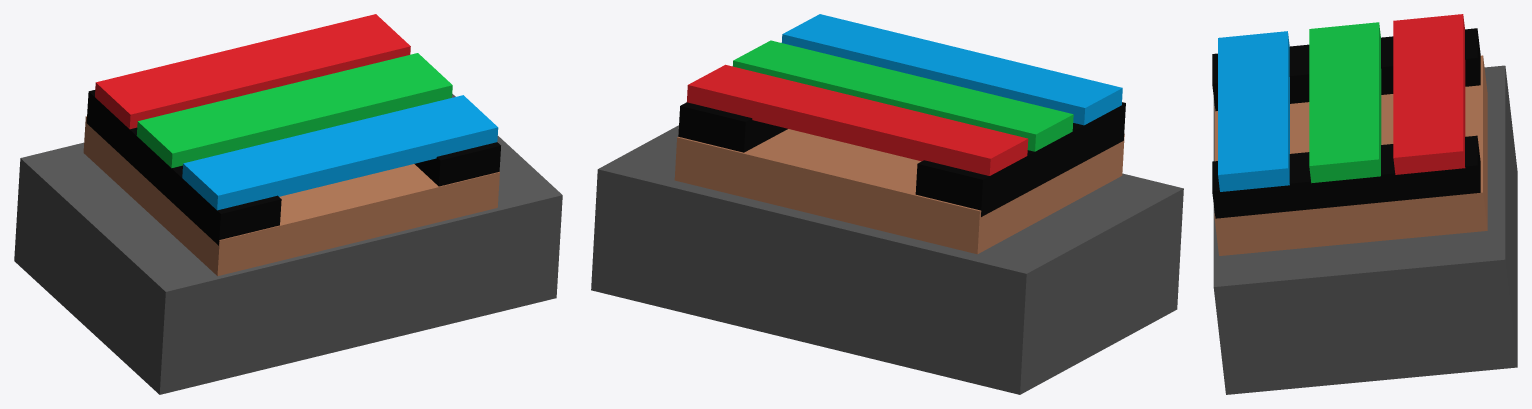
File: bomba.glb
3 renders of one model, left to right at view 1: azimuth 30°, elevation 25°; view 2: azimuth 150°, elevation 25°; view 3: azimuth 270°, elevation 25°, orthographic. The views are drawn at different scales.
Parts seen in each view (by area): view 1: node_id6, node_id9, node_id18, node_id15, node_id12, node_id24, node_id21; view 2: node_id6, node_id9, node_id12, node_id18, node_id15, node_id24, node_id21; view 3: node_id6, node_id9, node_id12, node_id15, node_id18, node_id21, node_id24.
Boxes of the visible parts, box(x1,y1,x2,y2) form: node_id6: box(14, 94, 562, 394); node_id9: box(83, 116, 499, 276); node_id18: box(182, 95, 498, 210); node_id15: box(136, 53, 452, 168); node_id12: box(95, 14, 410, 129); node_id24: box(86, 90, 281, 245); node_id21: box(414, 142, 500, 186); node_id6: box(591, 125, 1183, 394); node_id9: box(674, 129, 1124, 254); node_id12: box(687, 64, 1028, 175); node_id18: box(781, 14, 1122, 125); node_id15: box(732, 40, 1073, 151); node_id24: box(915, 102, 1125, 216); node_id21: box(678, 102, 787, 152); node_id6: box(1213, 65, 1517, 394); node_id9: box(1214, 55, 1487, 255); node_id12: box(1393, 14, 1465, 174); node_id15: box(1309, 22, 1381, 183); node_id18: box(1218, 31, 1289, 191); node_id21: box(1212, 135, 1480, 218); node_id24: box(1212, 28, 1480, 111).
Bounding box in the file's own units: 0.3244 × 0.1662 × 0.2157.
7 materials, 7 textured.
